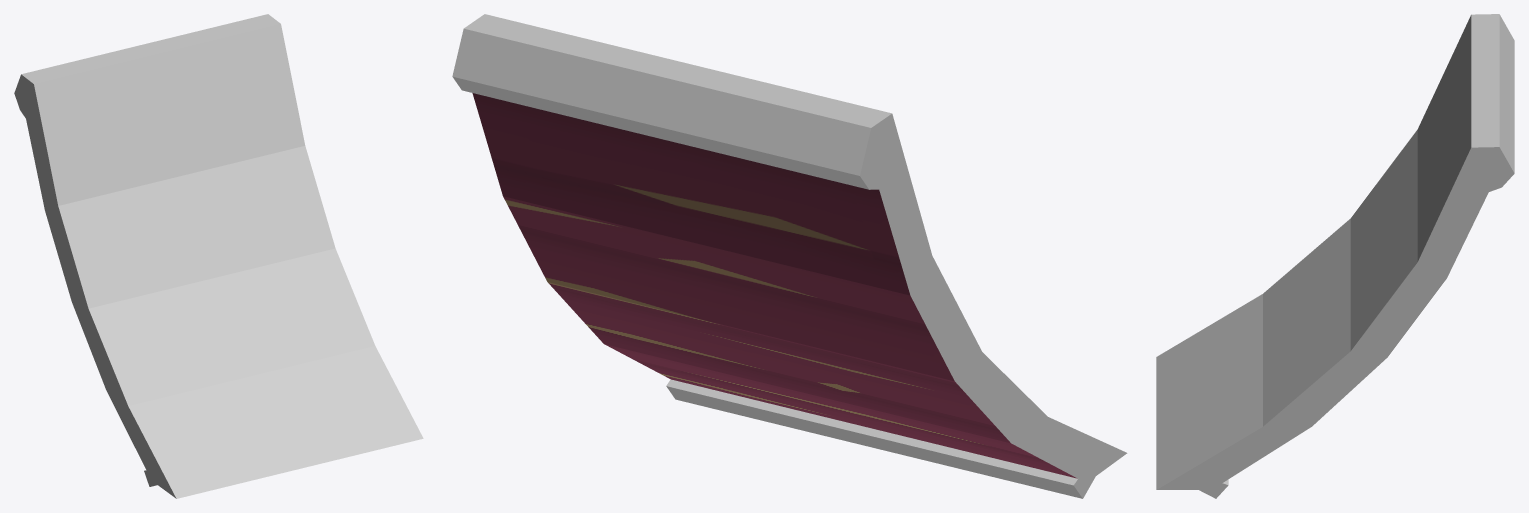
File: SM_Bld_Roof_S_Concave_01.fbx
3 views of the same model, side by side, from view 1: azimuth 30°, elevation 25°; view 2: azimuth 150°, elevation 25°; view 3: azimuth 270°, elevation 25° (orthographic). The views are drawn at different scales.
Parts seen in each view (by area): view 1: SM_Bld_Roof_S_Concave_01; view 2: SM_Bld_Roof_S_Concave_01; view 3: SM_Bld_Roof_S_Concave_01.
Part boxes in pixels (x1,y1,x2,y2): SM_Bld_Roof_S_Concave_01: (14,14,423,498); SM_Bld_Roof_S_Concave_01: (452,14,1127,498); SM_Bld_Roof_S_Concave_01: (1156,14,1514,498).
Size of the model in its own units: 125 by 154 by 142.
